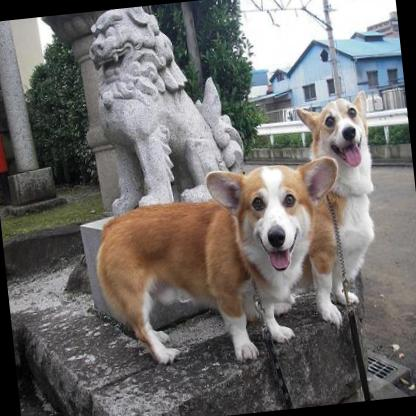Pembroke: (86, 154, 356, 376), (294, 90, 389, 328)
